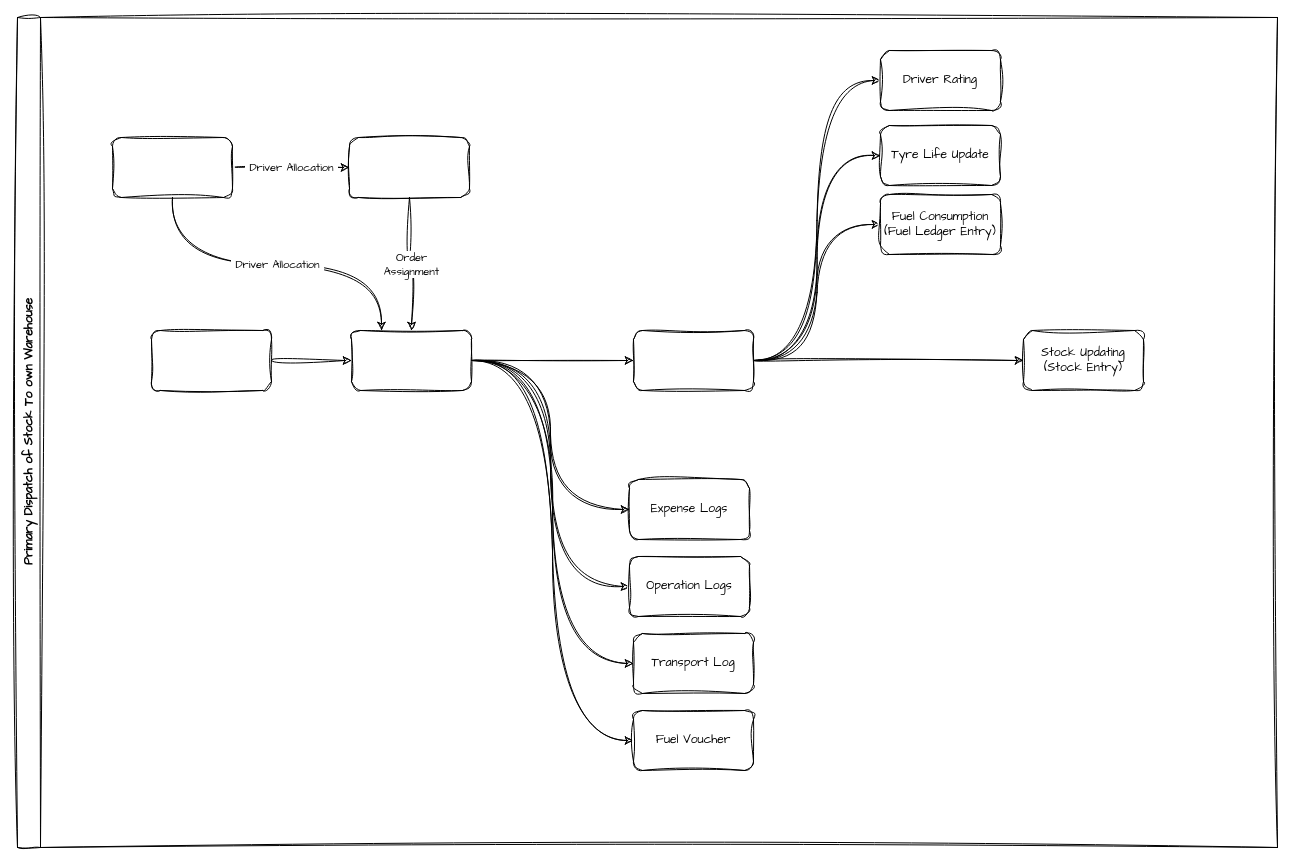
Image size: 1295x865. Some labels were removed from this diagram. Here are the shapes that lost their labels. From the top down, the centre of each, then its label:
At [172,167]: "Driver".
At [409,167]: "Vehicle".
At [211,360]: "Customer Order (Dispatch Order)".
At [411,360]: "Trip (Dispatch Trip)".
At [693,360]: "Release (Trip Release)".
